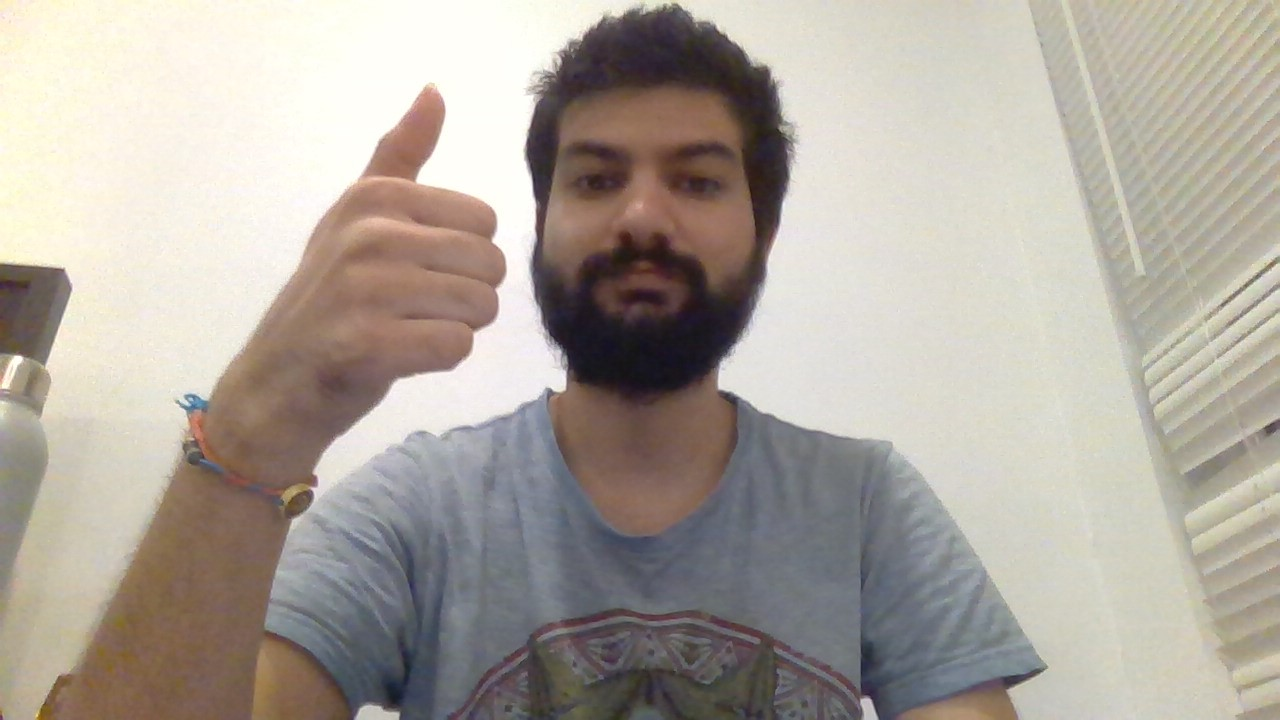up: (277, 74, 511, 386)
